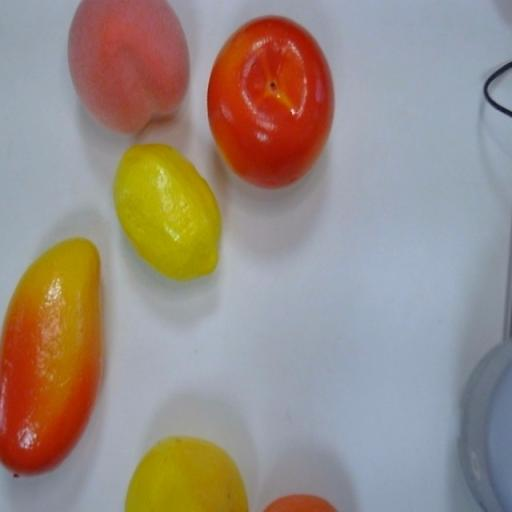Ripe: (0, 231, 110, 491), (206, 4, 350, 194), (65, 1, 200, 145), (114, 132, 223, 290), (117, 422, 248, 512), (257, 442, 353, 512)
